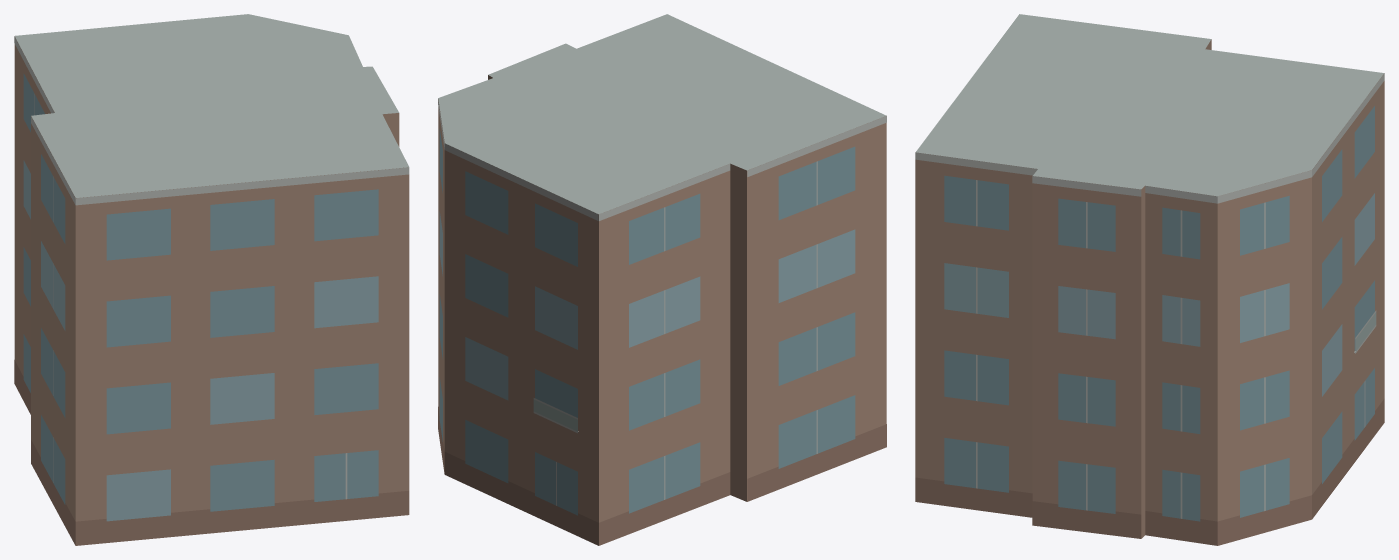
The model's file is survey-upis-32818324.glb.
The picture shows the model from 3 angles, left to right: view 1: azimuth 30°, elevation 25°; view 2: azimuth 150°, elevation 25°; view 3: azimuth 270°, elevation 25°; orthographic projection. The views are drawn at different scales.
Parts seen in each view (by area): view 1: survey-upis-32818324.tmp; view 2: survey-upis-32818324.tmp; view 3: survey-upis-32818324.tmp.
Boxes of the visible parts, x1,y1,x2,y2 form: survey-upis-32818324.tmp: (14, 14, 409, 545); survey-upis-32818324.tmp: (438, 14, 886, 545); survey-upis-32818324.tmp: (915, 14, 1384, 545).
Bounding box in the file's own units: 13.1 × 11.7 × 14.24.
